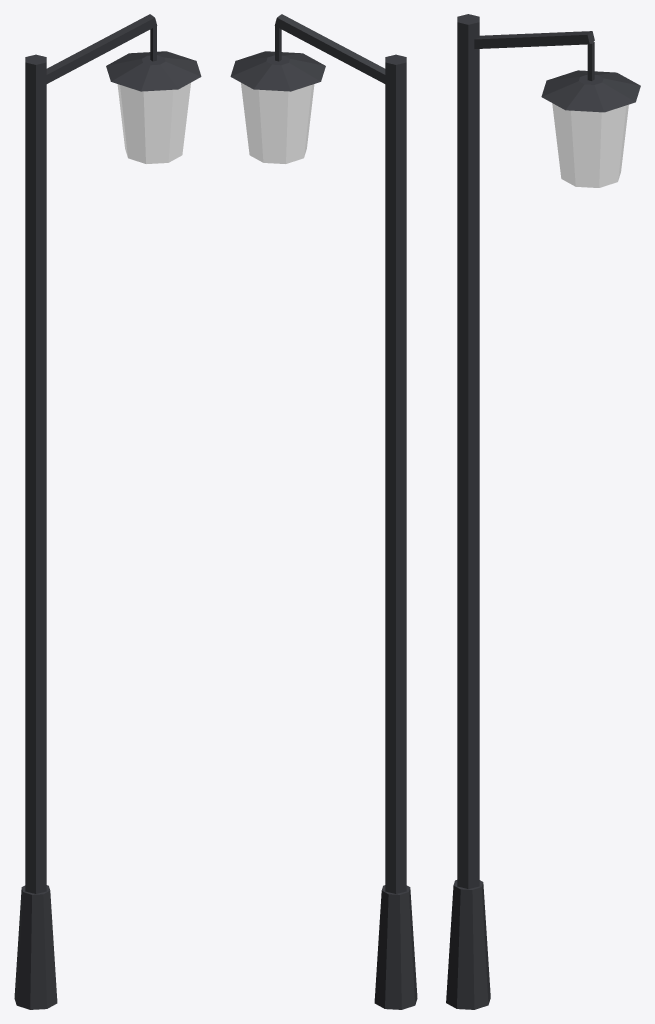
Rendered from street_lamp.glb.
3 views of the same model, side by side, from view 1: azimuth 30°, elevation 25°; view 2: azimuth 150°, elevation 25°; view 3: azimuth 330°, elevation 25° (orthographic). The views are drawn at different scales.
Parts seen in each view (by area): view 1: street_lamp; view 2: street_lamp; view 3: street_lamp.
Part boxes in pixels (x1,y1,x2,y2): street_lamp: (14,14,201,1009); street_lamp: (230,14,417,1009); street_lamp: (446,14,640,1009).
Bounding box in the file's own units: 0.84 × 4.27 × 0.4.
2 materials, 1 textured.
